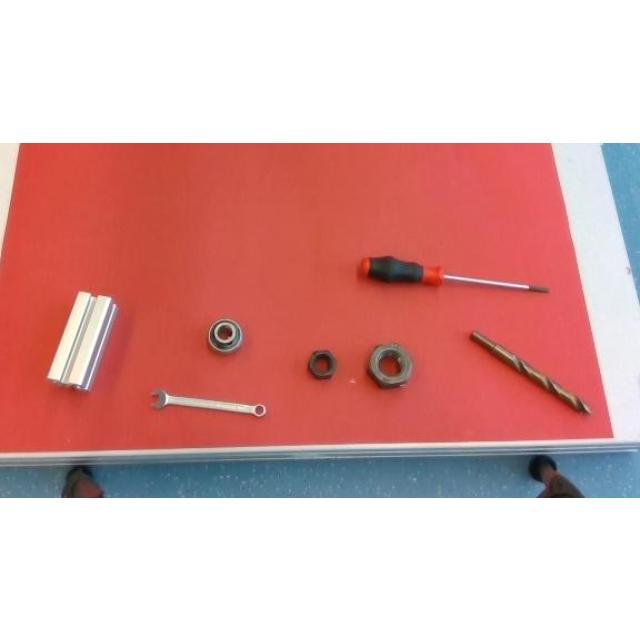Bearing2: (208, 318, 242, 352)
Drill: (470, 330, 592, 412)
M20: (308, 348, 336, 378)
M30: (366, 342, 414, 386)
S40_40_G: (47, 290, 117, 390)
